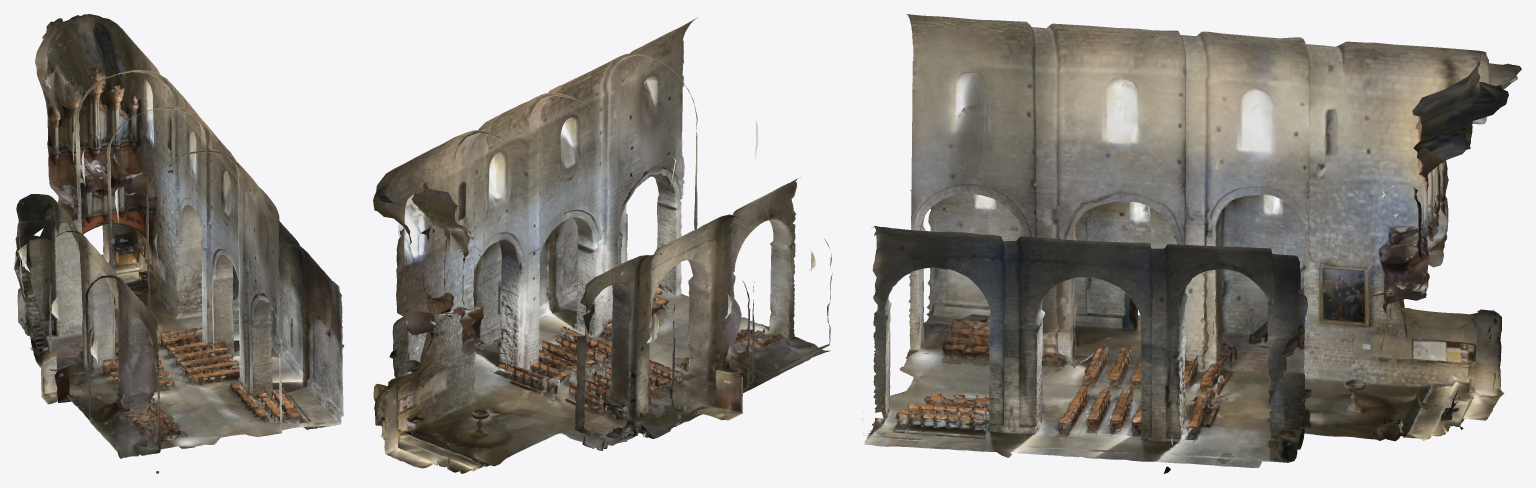
File: medium.glb
The picture shows the model from 3 angles, left to right: view 1: azimuth 30°, elevation 25°; view 2: azimuth 150°, elevation 25°; view 3: azimuth 270°, elevation 25°; orthographic projection. The views are drawn at different scales.
Visible parts, largest first — view 1: medium.001; view 2: medium.001; view 3: medium.001.
Part boxes in pixels (<box>): medium.001: <box>14,14,344,473</box>; medium.001: <box>373,18,832,473</box>; medium.001: <box>862,14,1521,473</box>.
Size of the model in its own units: 15.7 by 16.79 by 25.51.
Materials: 1 (1 with a texture image).
